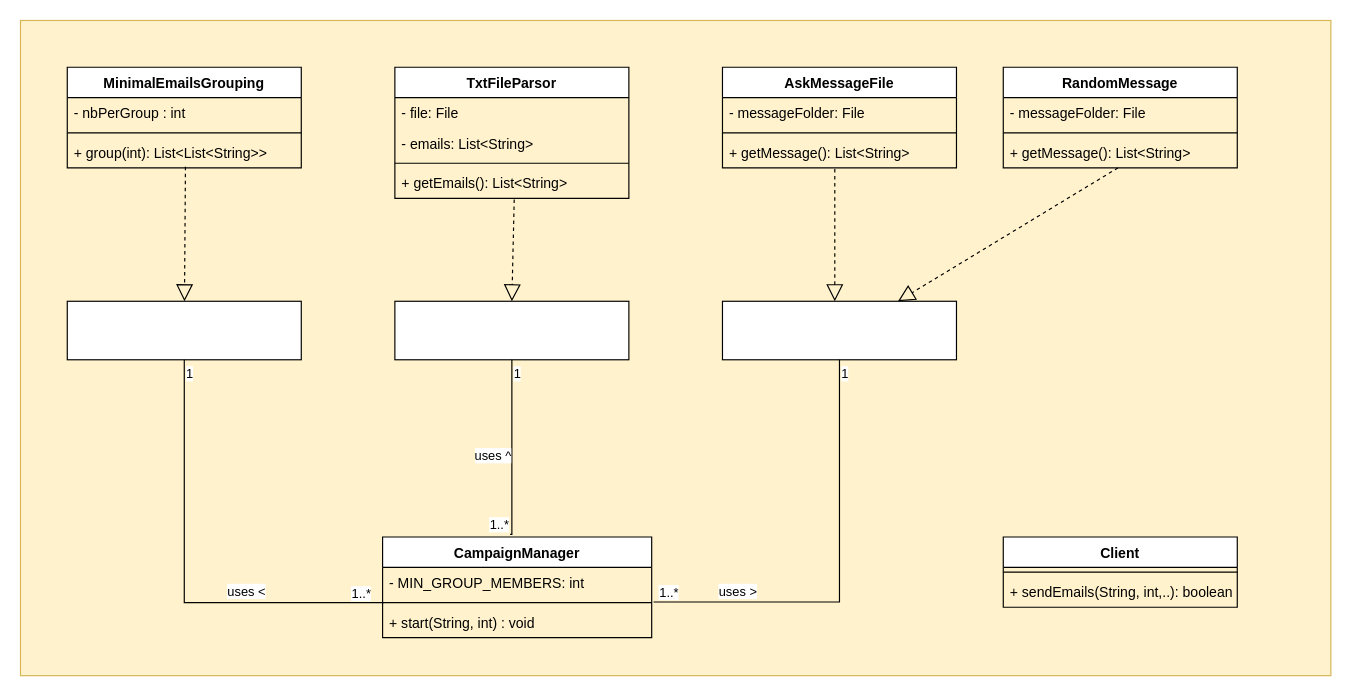
The diagram is 1351 pixels wide and 696 high, and some of its shapes have lost their labels. Here are the shapes that lost their labels. From the top down, the centre of each, then its label:
pixel 183 330: «interface» EmailsGrouping
pixel 511 330: «interface» EmailsRetriever
pixel 838 330: «interface» MessageRetriever
